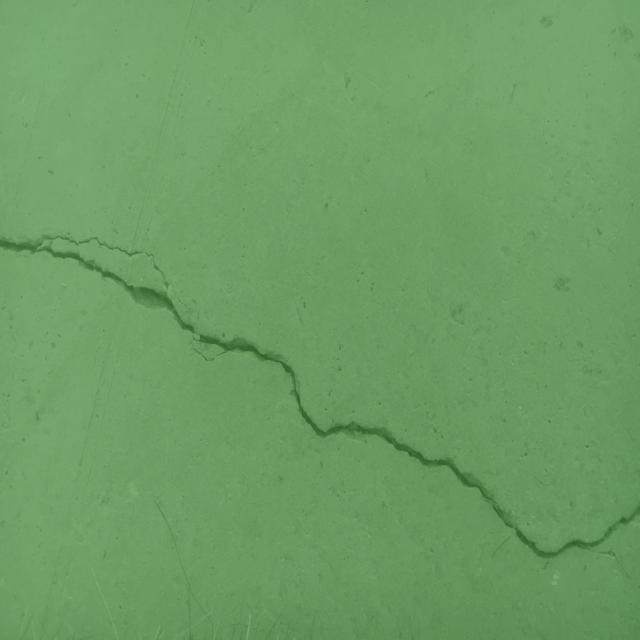crack: (0, 234, 640, 586)
